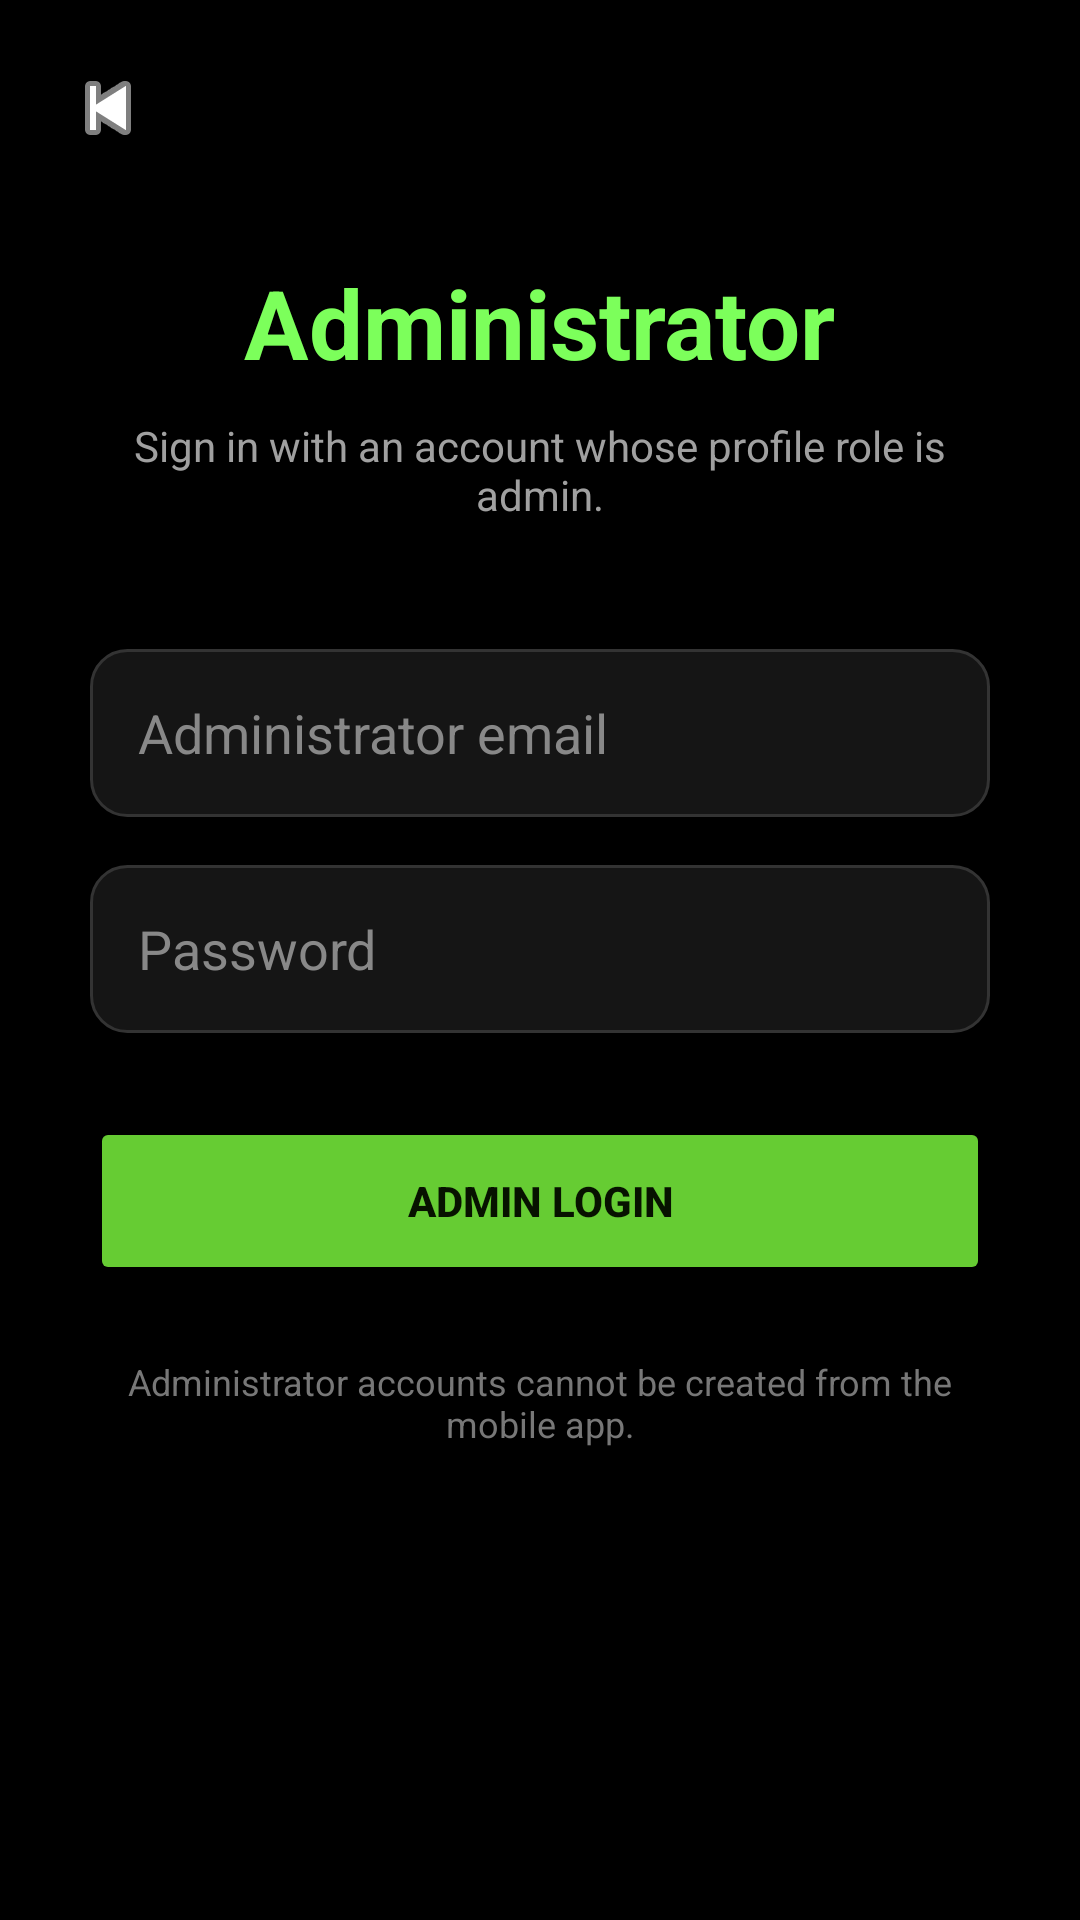

Screen size 1080x1920. Icon name, then its center in pixels as (x,y):
Back: (108,108)
